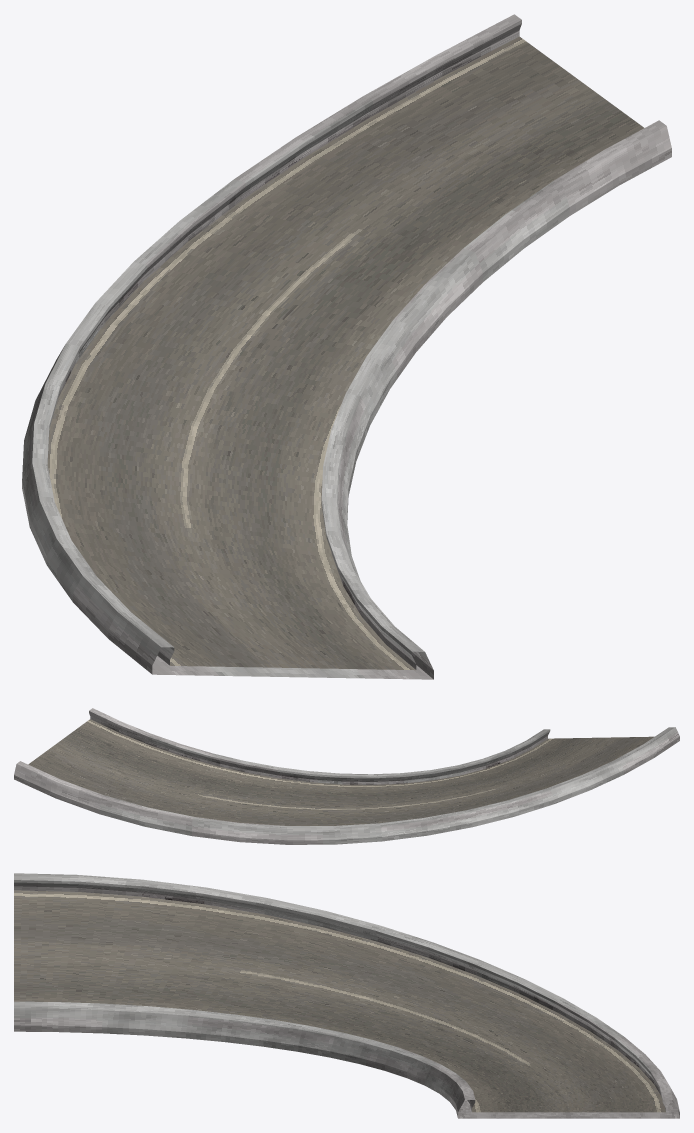
File: turn-right3x3.glb
3 views of the same model, one above another, from view 1: azimuth 30°, elevation 25°; view 2: azimuth 150°, elevation 25°; view 3: azimuth 270°, elevation 25° (orthographic). The views are drawn at different scales.
Visible parts, largest first — view 1: road-Turn-HalfBankedRight-BiSlopeUp-Up2-Right-Size3; view 2: road-Turn-HalfBankedRight-BiSlopeUp-Up2-Right-Size3; view 3: road-Turn-HalfBankedRight-BiSlopeUp-Up2-Right-Size3.
Part boxes in pixels (x1,y1,x2,y2): road-Turn-HalfBankedRight-BiSlopeUp-Up2-Right-Size3: (22, 14, 671, 679); road-Turn-HalfBankedRight-BiSlopeUp-Up2-Right-Size3: (14, 708, 679, 844); road-Turn-HalfBankedRight-BiSlopeUp-Up2-Right-Size3: (14, 873, 679, 1118).
Size of the model in its own units: 3 by 0.5937 by 3.
Materials: 2 (2 with a texture image).
